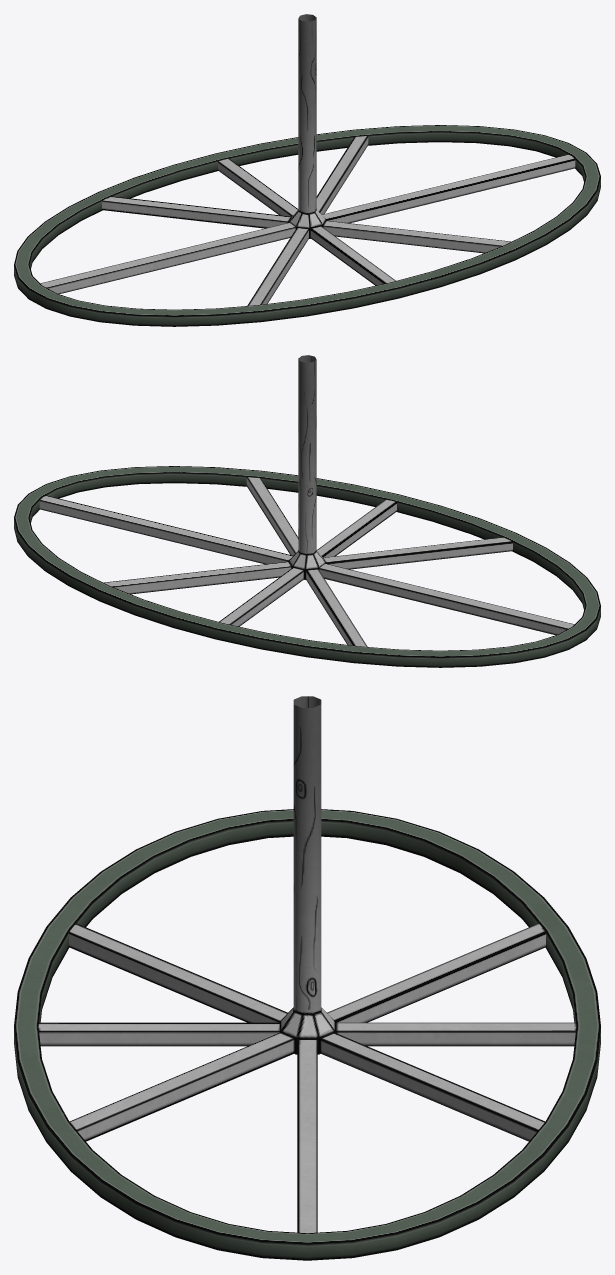
Rendered from Chandelier.fbx.
The picture shows the model from 3 angles, top to bottom: view 1: azimuth 30°, elevation 25°; view 2: azimuth 150°, elevation 25°; view 3: azimuth 270°, elevation 25°; orthographic projection. The views are drawn at different scales.
Visible parts, largest first — view 1: Chandlier; view 2: Chandlier; view 3: Chandlier.
Part boxes in pixels (bbox=[...]): Chandlier: bbox=[14, 14, 600, 326]; Chandlier: bbox=[14, 355, 600, 667]; Chandlier: bbox=[14, 696, 600, 1260].
Bounding box in the file's own units: 274 × 100 × 156.
